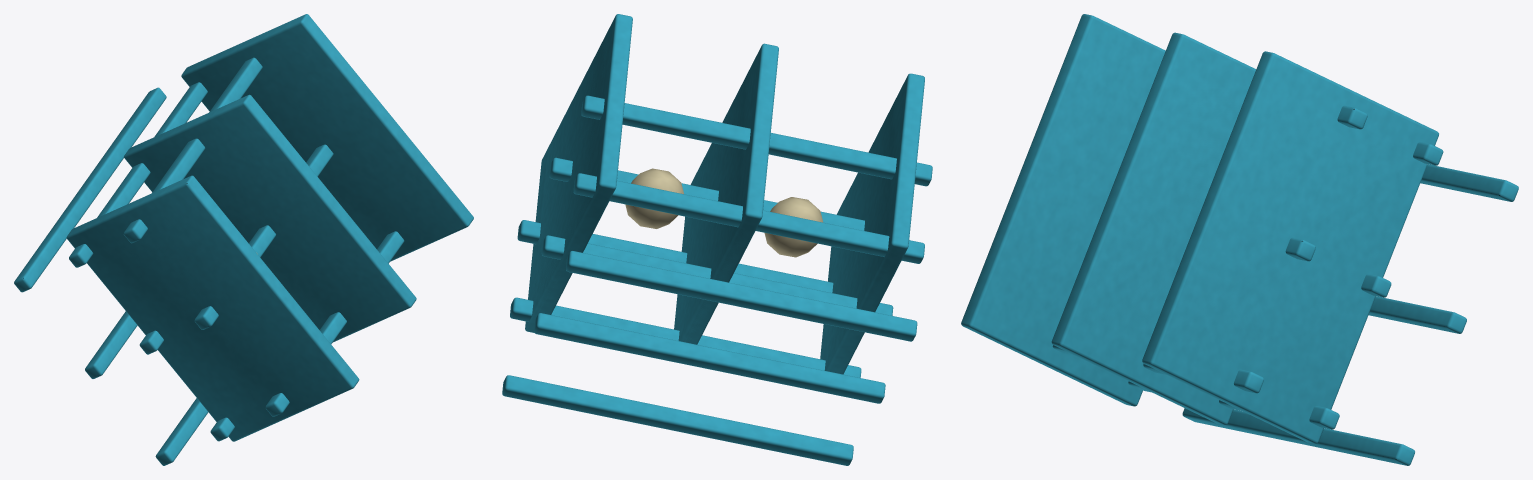
The picture shows the model from 3 angles, left to right: view 1: azimuth 30°, elevation 25°; view 2: azimuth 150°, elevation 25°; view 3: azimuth 270°, elevation 25°; orthographic projection. The views are drawn at different scales.
Parts seen in each view (by area): view 1: Open matrix horizontal beam; view 2: Open matrix horizontal beam; view 3: Open matrix horizontal beam.
Boxes of the visible parts, x1,y1,x2,y2 form: Open matrix horizontal beam: (14, 14, 473, 465); Open matrix horizontal beam: (502, 14, 932, 465); Open matrix horizontal beam: (961, 14, 1518, 465).
Bounding box in the file's own units: 1.42 × 1.32 × 1.41.
1 material, 1 textured.
